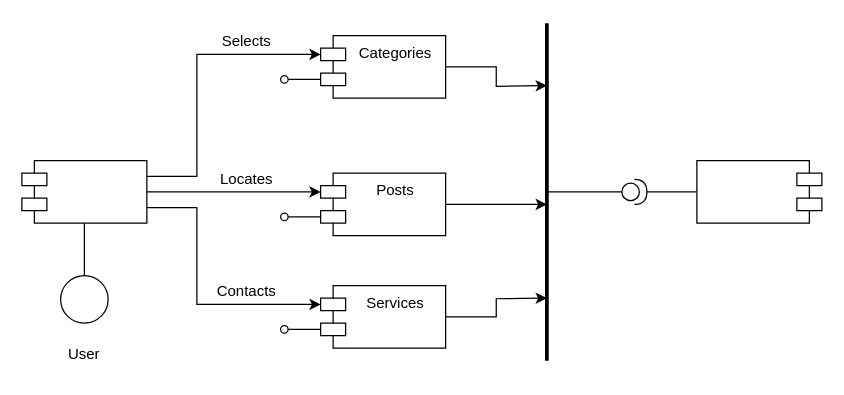
Image size: 844x395. Some labels were removed from this diagram. The centre of each missing label's shape, as x and y in pixels:
"Database" belongs at (x=759, y=191).
"Rapid Reach" belongs at (x=84, y=191).
